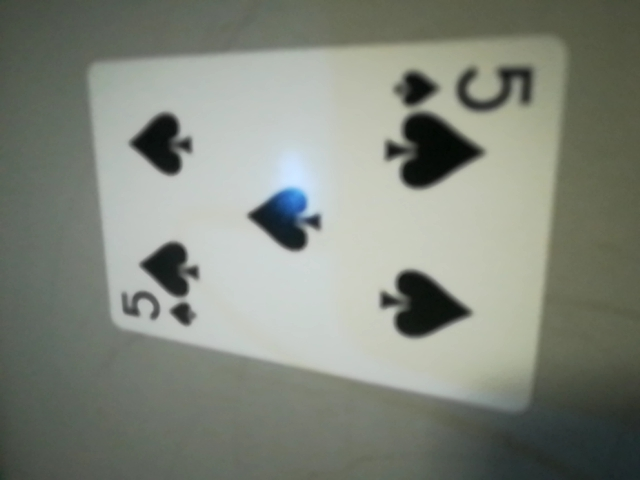ht 5: (384, 54, 548, 112)
